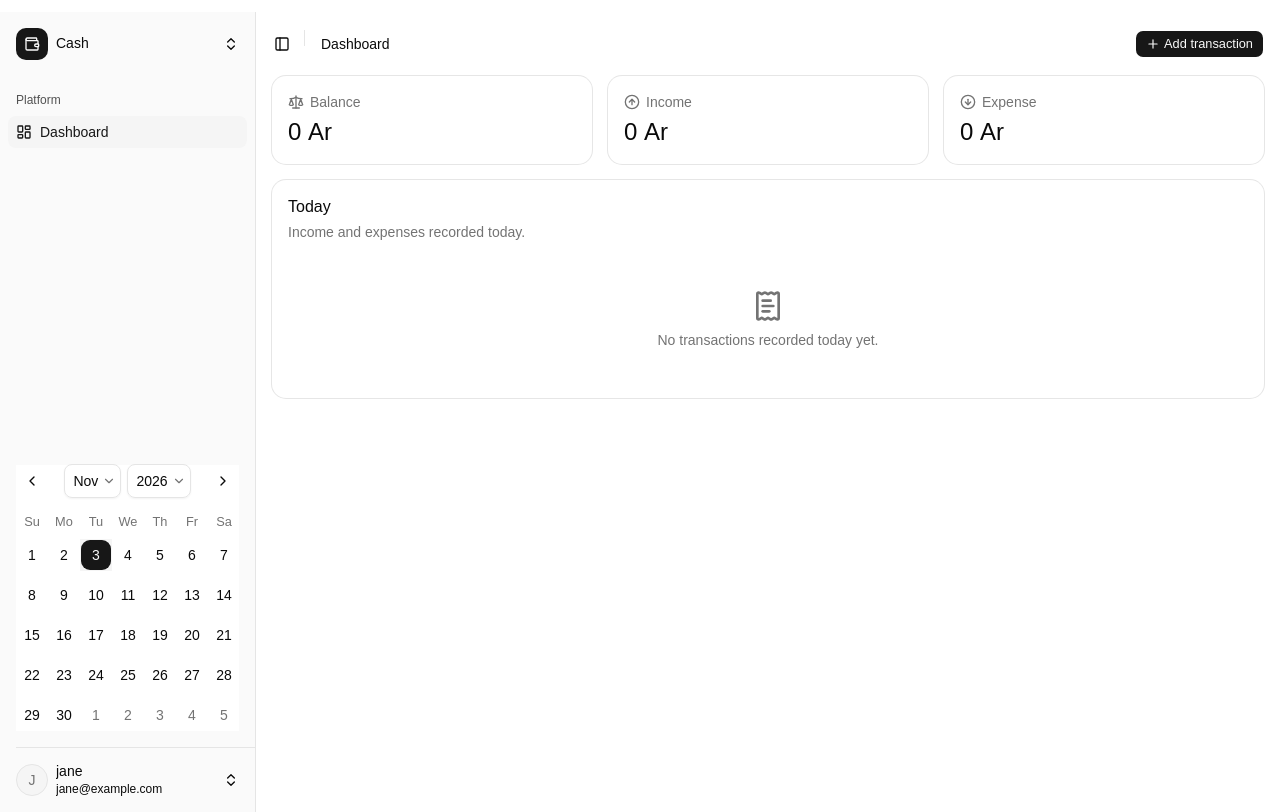
NavUser › logs out from the menu and goes to /login
Click the button "J jane jane@example.com".
click(128, 780)  # box [8,756,247,804]
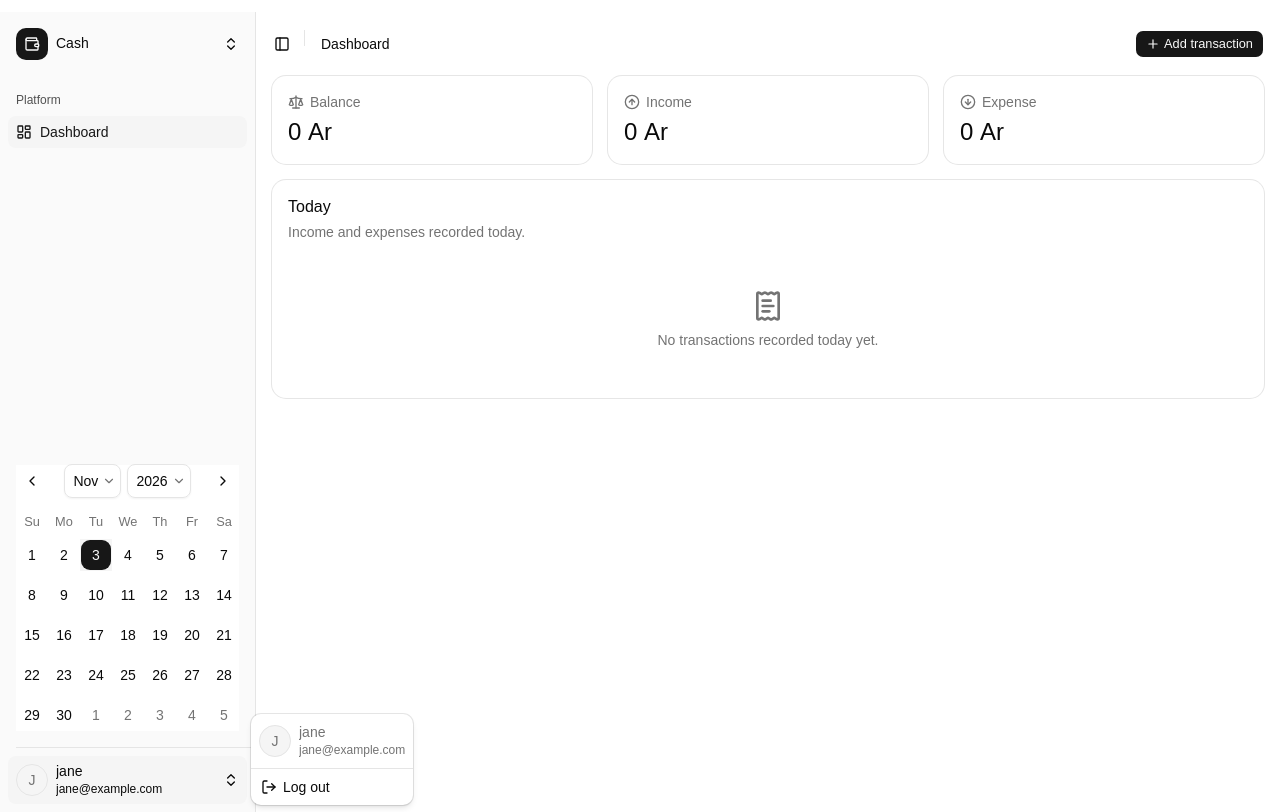
Click the menu item "Log out".
click(295, 786)  # box [261,778,330,794]
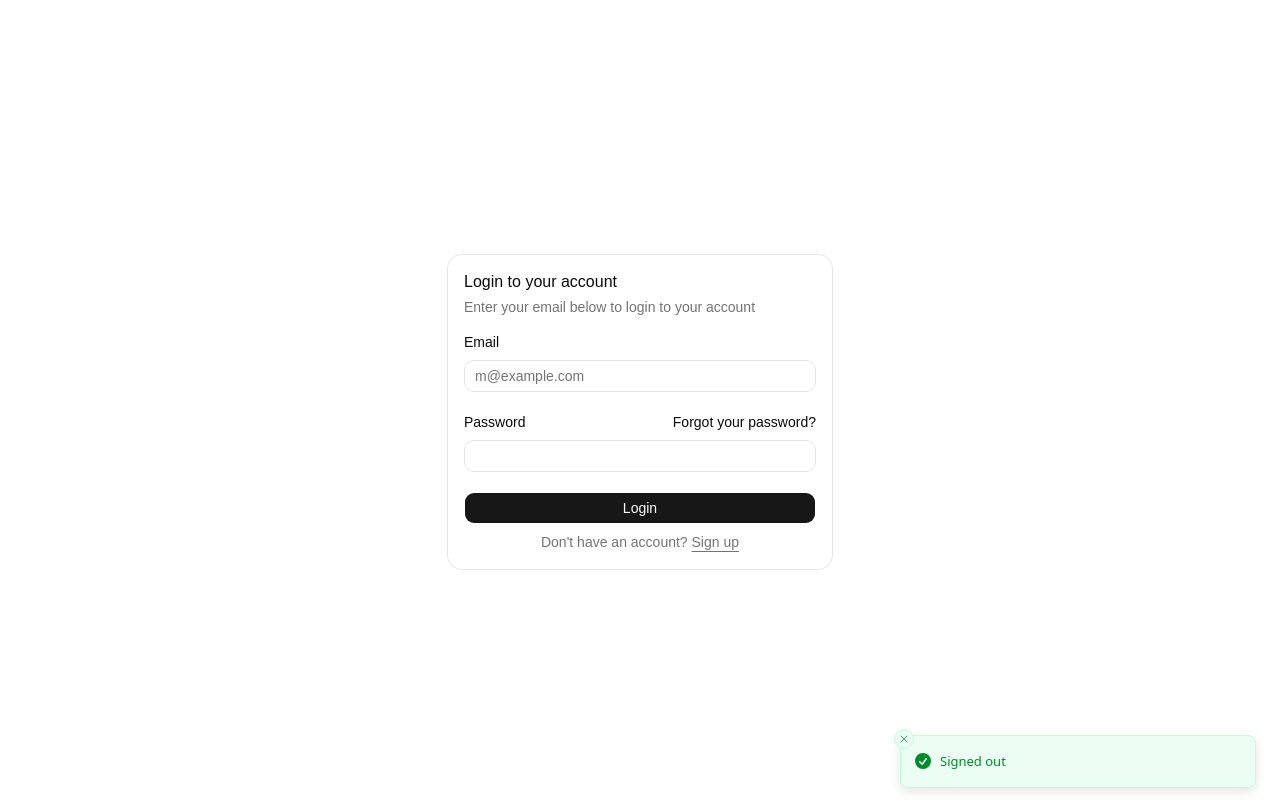
Check: the text "Signed out" is shown, box [940,752,1006,771]
